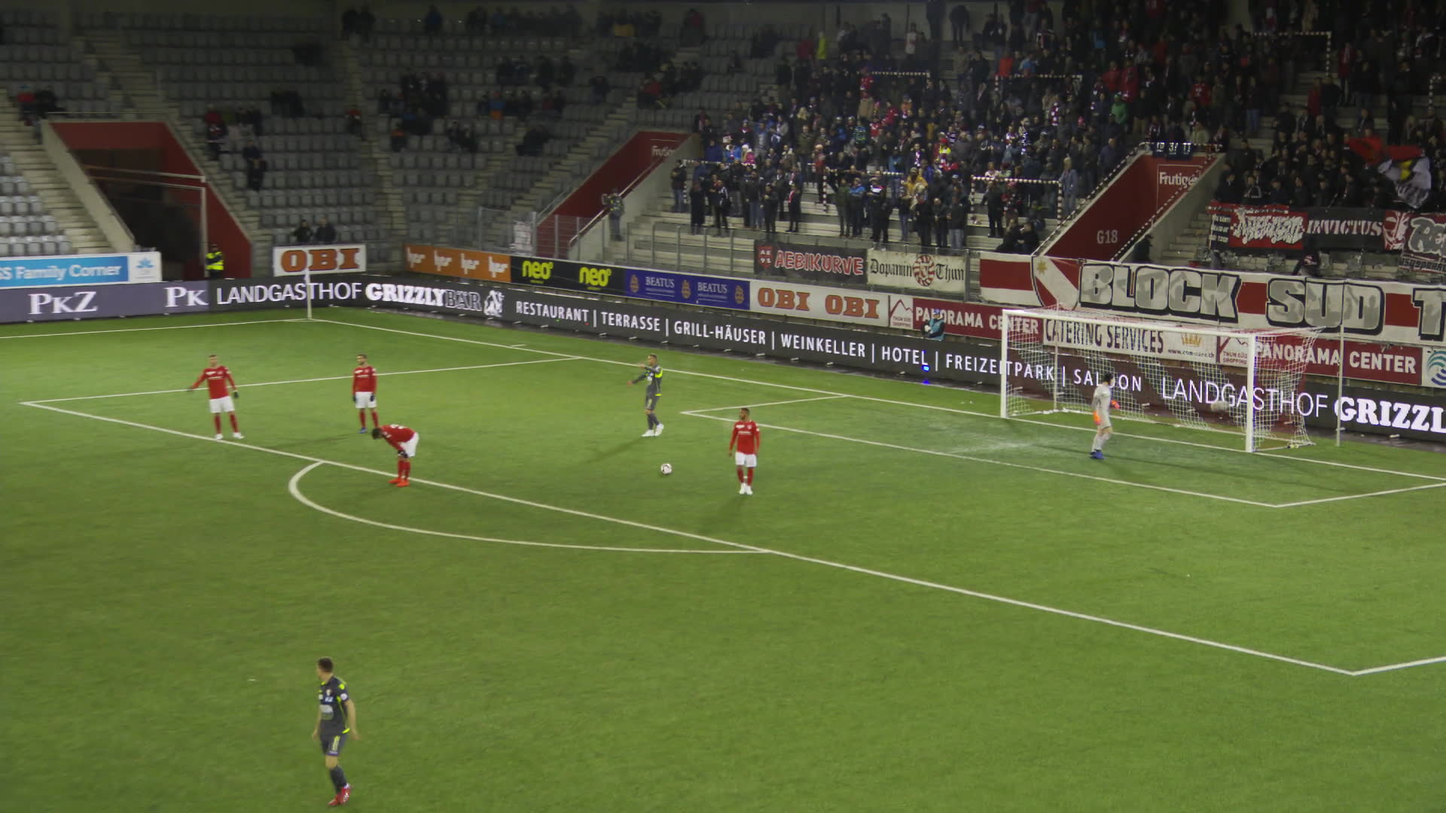ball: (659, 463, 670, 473)
player: (304, 659, 358, 809), (175, 355, 240, 443), (1083, 375, 1118, 464), (367, 423, 413, 489), (631, 355, 668, 437), (725, 410, 758, 498), (346, 354, 377, 437)
